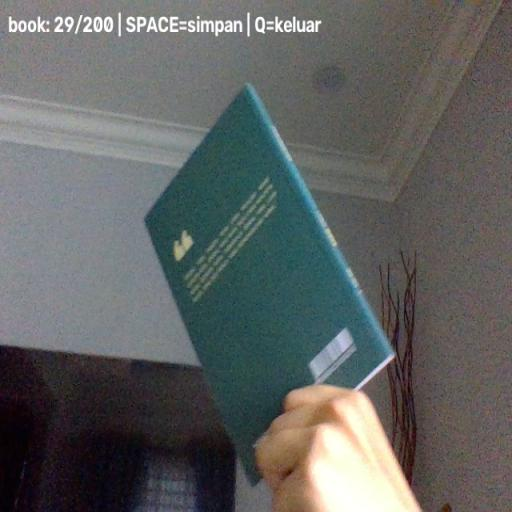Book: (144, 82, 396, 487)
